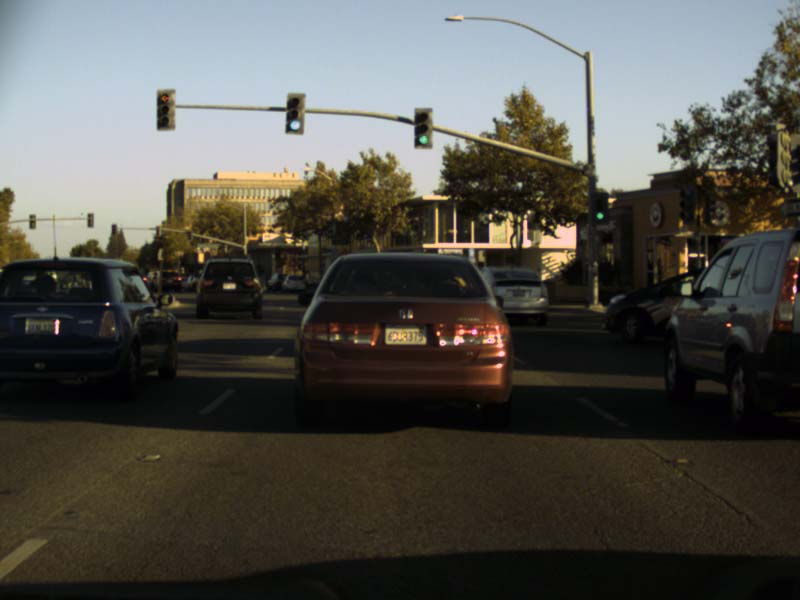Green: (414, 111, 429, 147), (289, 94, 301, 132), (593, 193, 606, 222)
Red: (157, 93, 170, 125)
